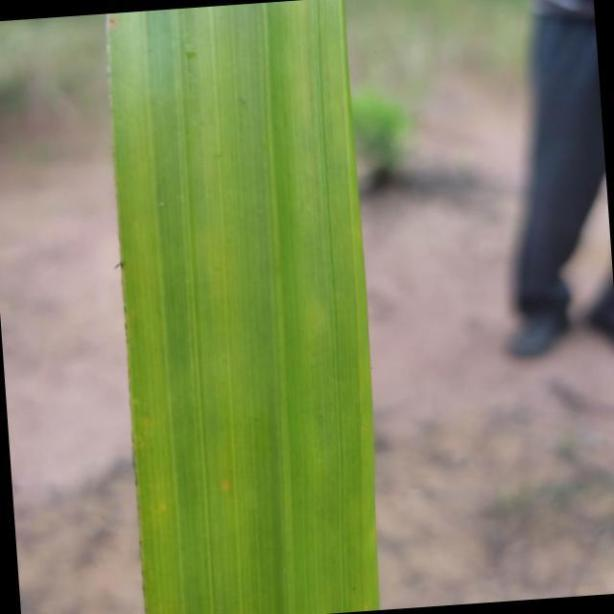nitrogen: (103, 0, 377, 614)
